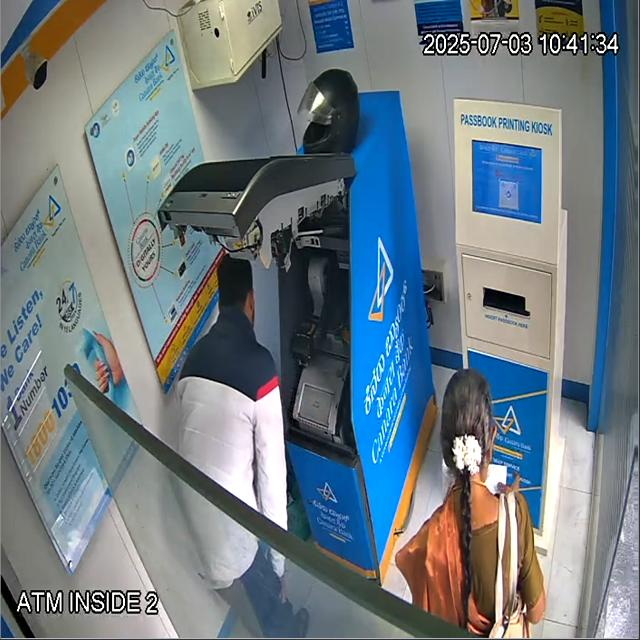helmet: (297, 68, 360, 153)
no_helmet: (440, 367, 497, 485), (218, 258, 255, 326)
